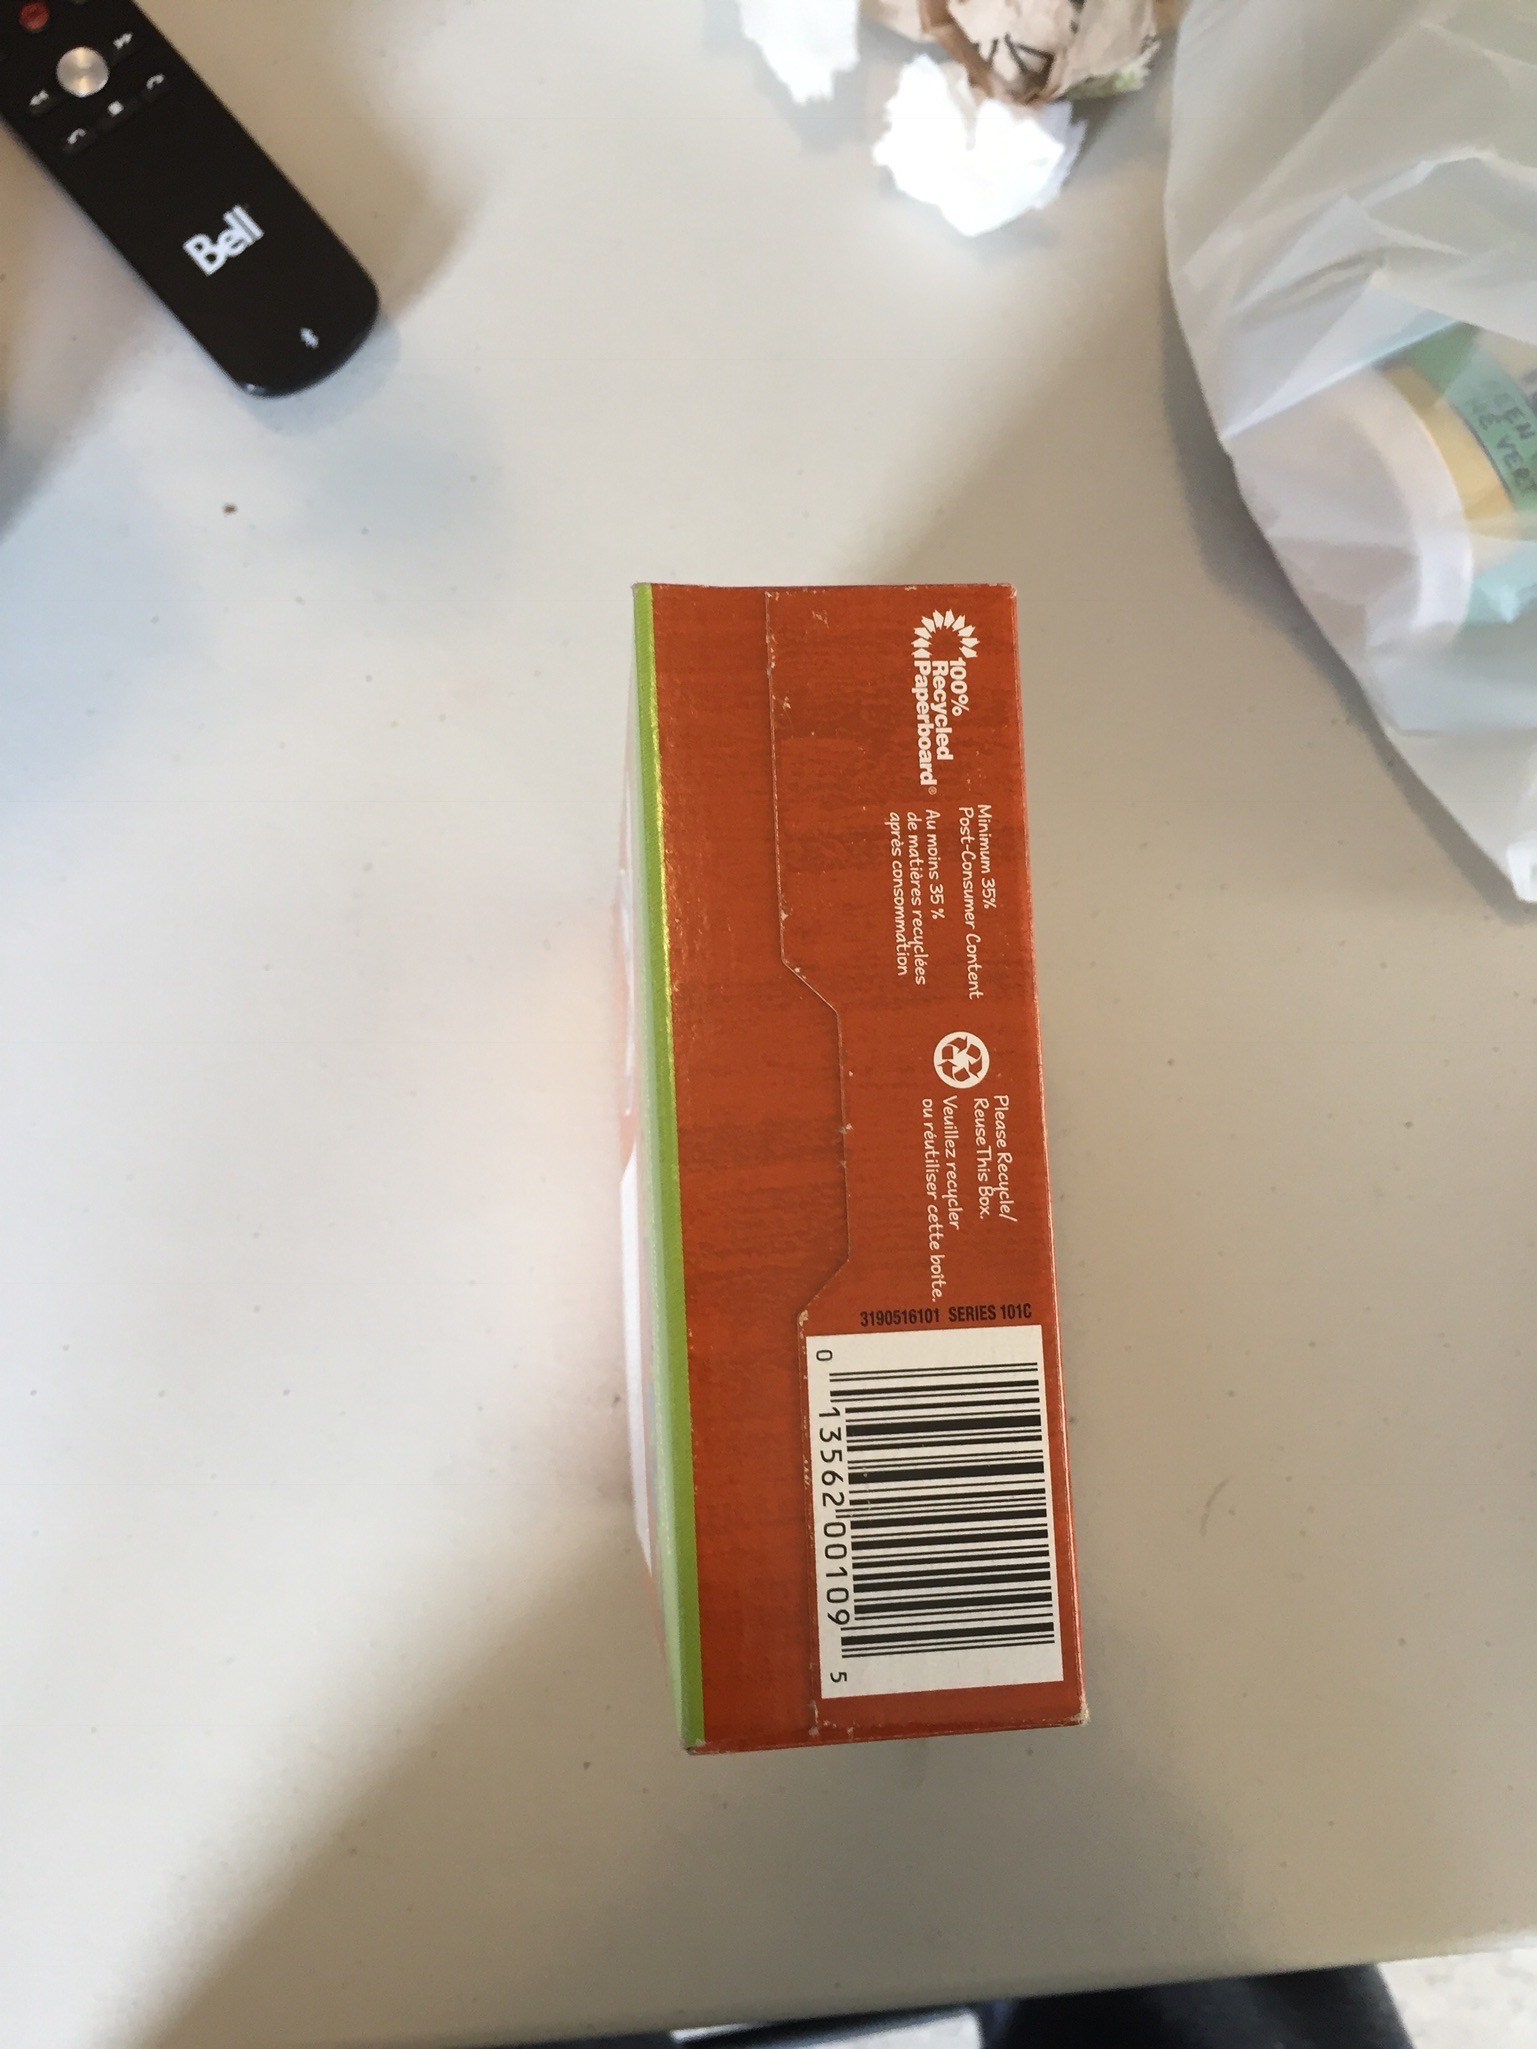annies_snickerdoodles_cinnamon_sugar: (646, 599, 1070, 1733)
